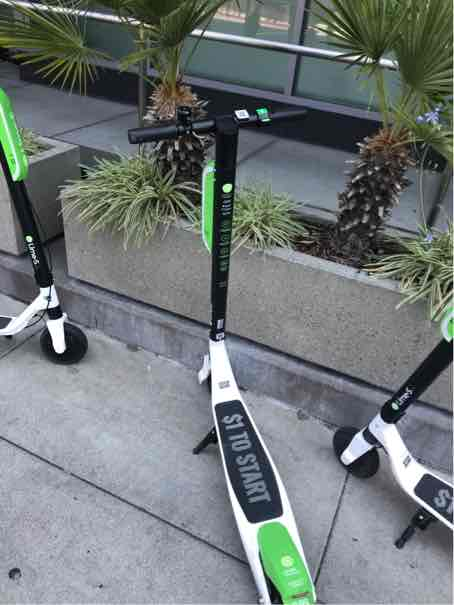scooter: (114, 89, 364, 604)
